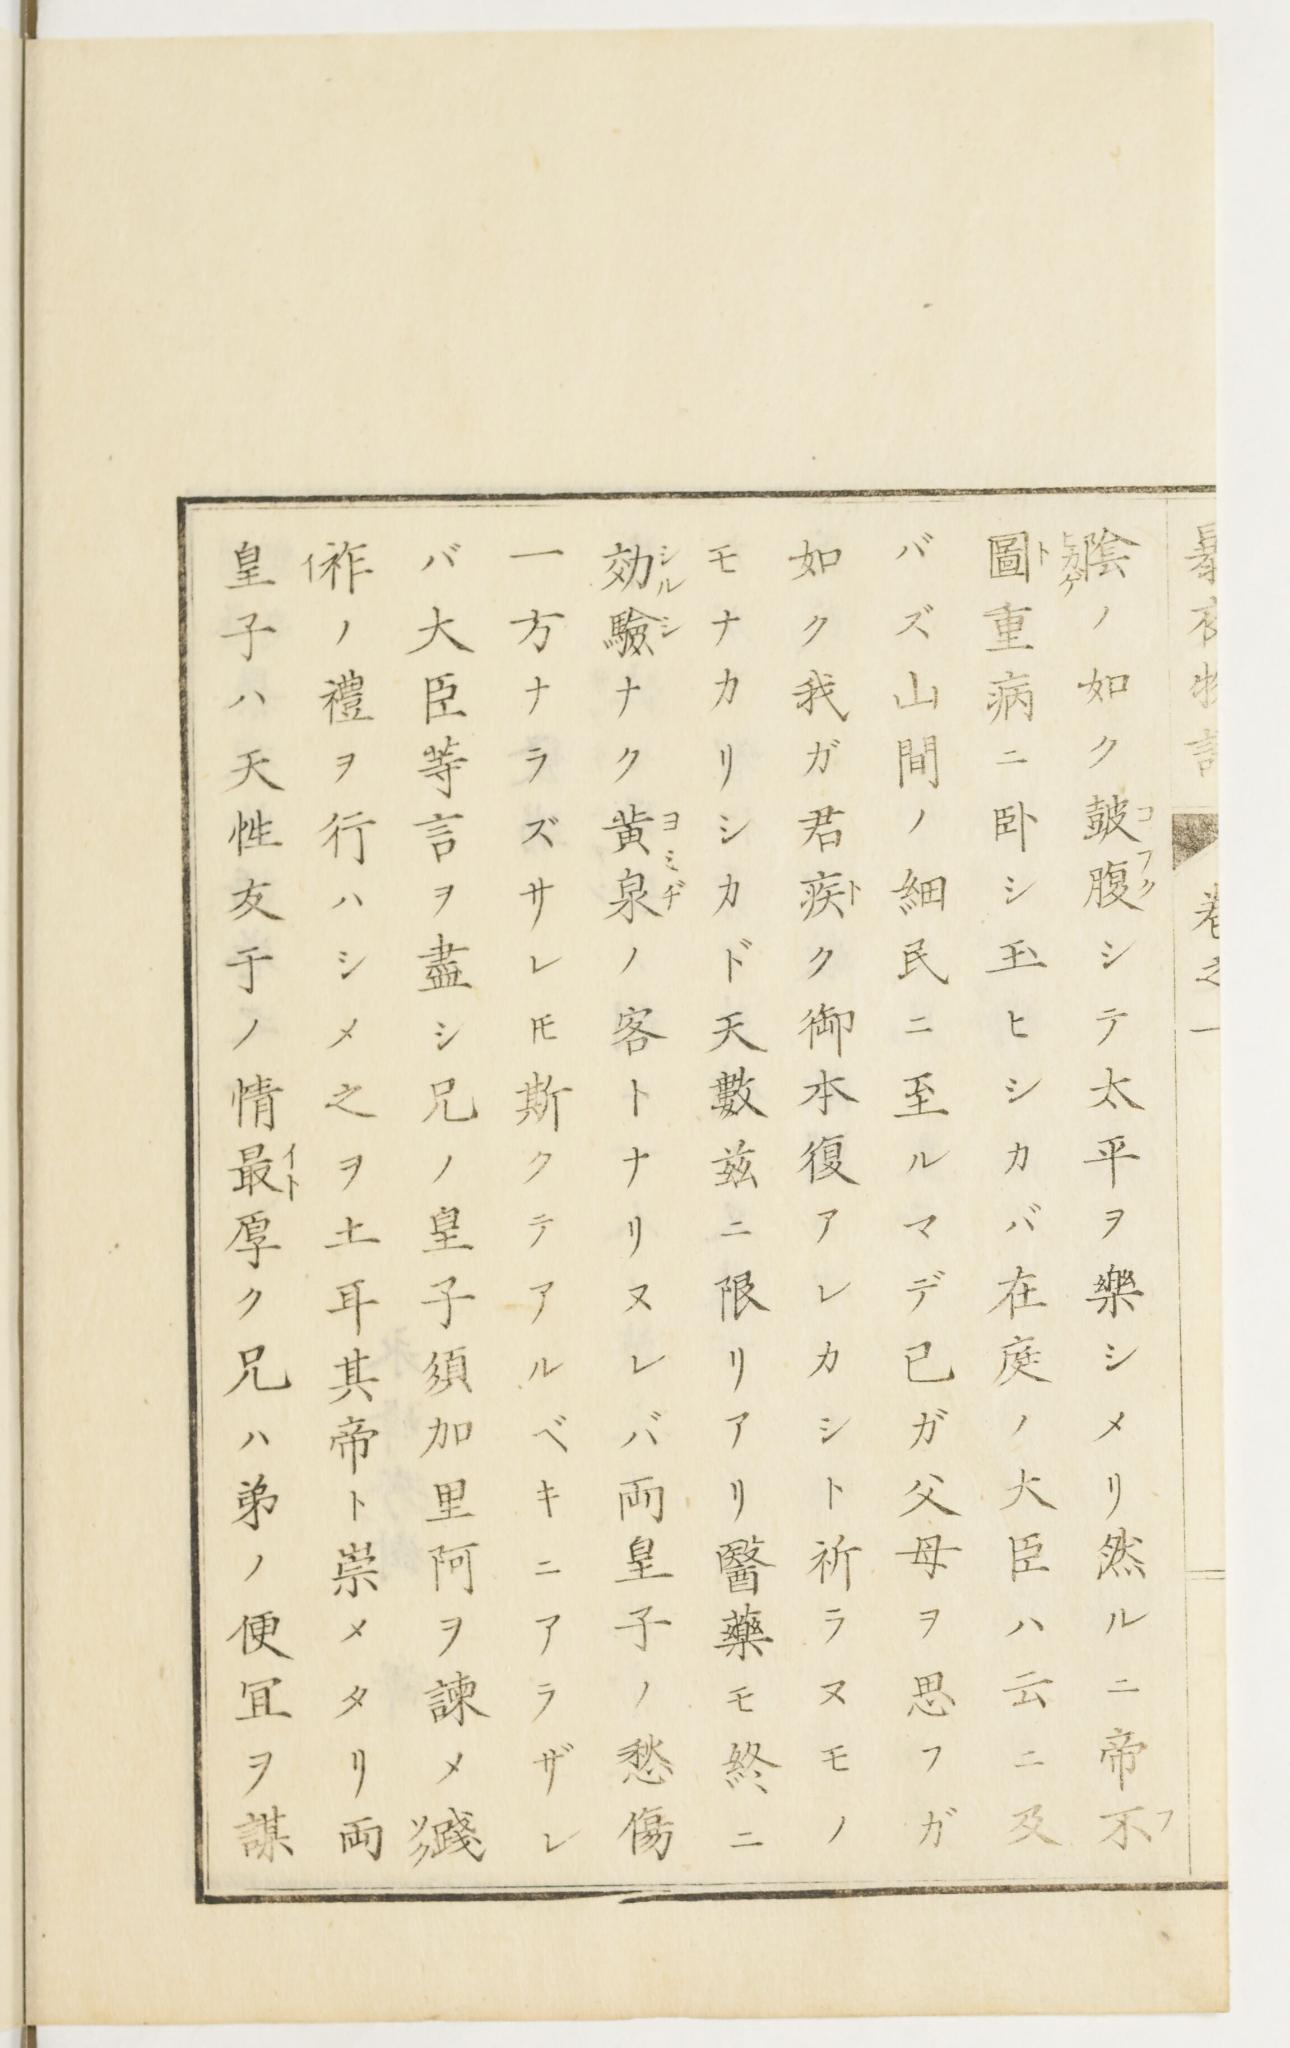MainZone-Character: (597, 539, 693, 605), (220, 1138, 312, 1204), (603, 803, 688, 872), (594, 608, 684, 672), (788, 865, 868, 935), (1082, 849, 1162, 916), (1077, 791, 1161, 847), (602, 866, 690, 920), (1097, 1803, 1176, 1861), (981, 523, 1052, 583)
MainZone-Ruby: (657, 538, 691, 599), (660, 806, 688, 871), (281, 1137, 309, 1201), (1135, 850, 1161, 901), (655, 609, 688, 645), (661, 875, 691, 913), (1138, 798, 1161, 829), (1155, 1803, 1177, 1831), (1036, 534, 1051, 572), (849, 874, 863, 910)
